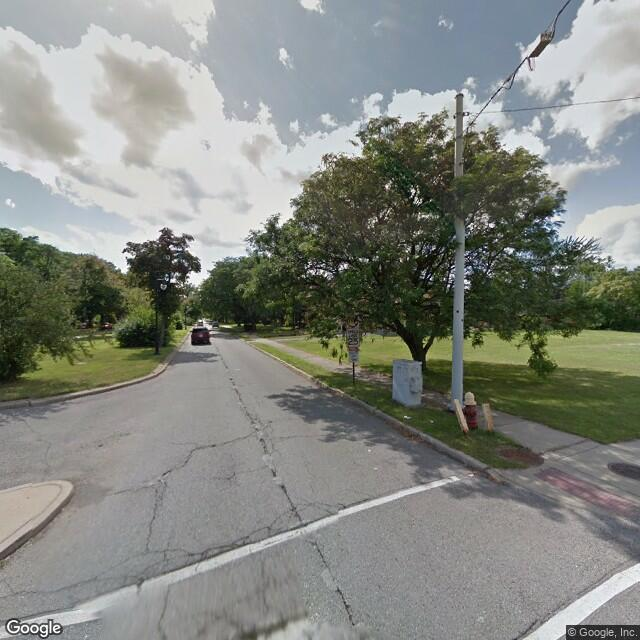litter: (397, 411, 412, 421)
